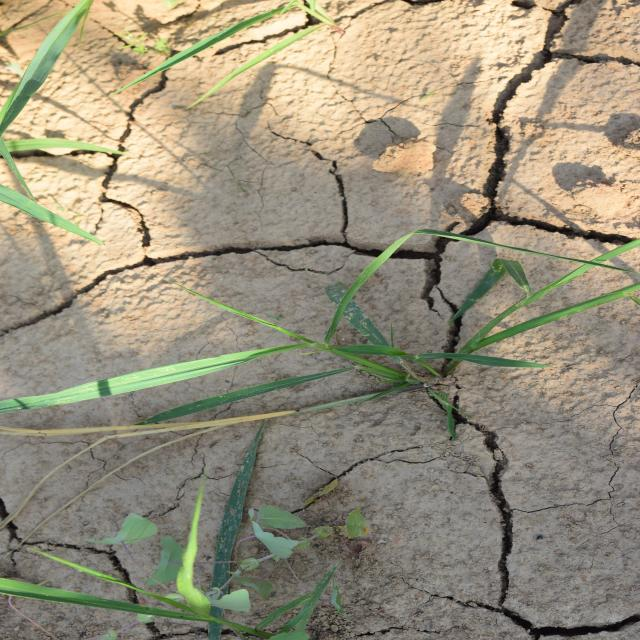green_foxtail: (237, 66, 406, 563)
